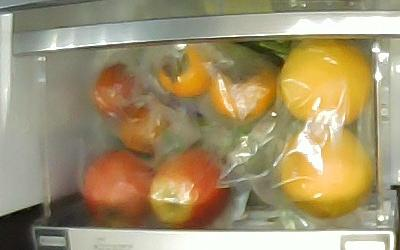apple_vinyl: (149, 149, 230, 229), (83, 149, 153, 230)
grapefruit_vinyl: (279, 125, 373, 219), (280, 39, 372, 125)
persimmon_vinyl: (211, 57, 276, 120), (157, 43, 211, 97)
prune_vinyl: (94, 64, 142, 117), (119, 106, 168, 156)
